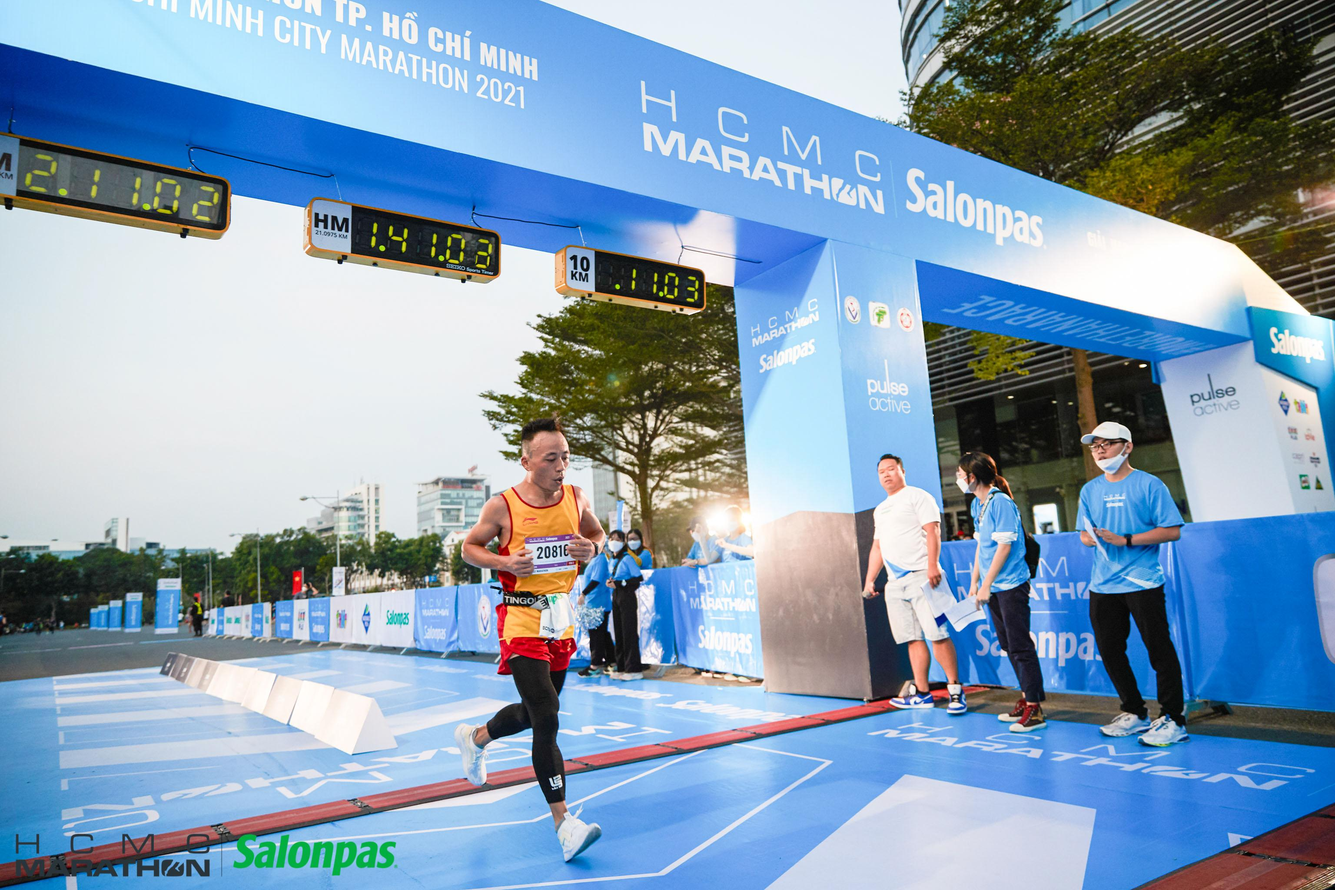bib: (523, 531, 581, 575)
